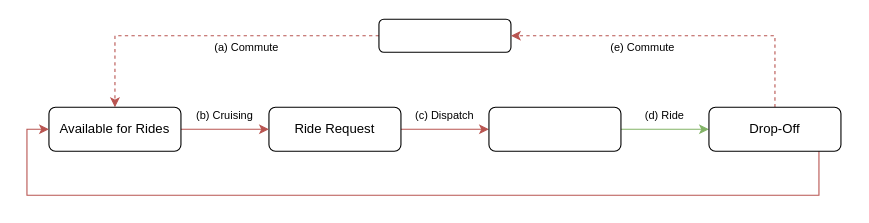
This 869x223 diagram has some shape labels left out. Each missing label, with the centre of its shape:
"Driver's Residence" belongs at point (444, 35).
"Pick-Up" belongs at point (554, 128).
